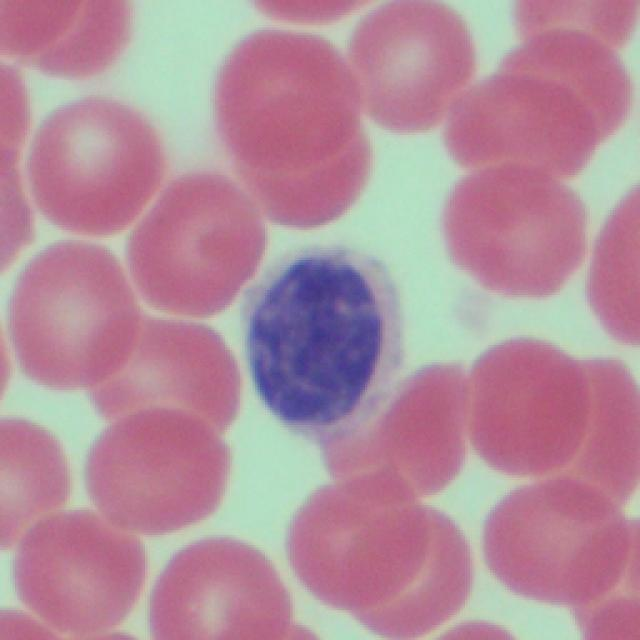RBC: (460, 332, 640, 506), (220, 22, 370, 227), (289, 478, 465, 640), (2, 242, 139, 419), (480, 475, 640, 615), (29, 86, 167, 243), (435, 158, 580, 306), (120, 173, 258, 326), (81, 406, 220, 546), (340, 2, 473, 140), (8, 511, 142, 638), (370, 351, 476, 505), (146, 529, 290, 638), (0, 0, 132, 80), (584, 166, 640, 346)
WBC: (241, 242, 391, 469)
